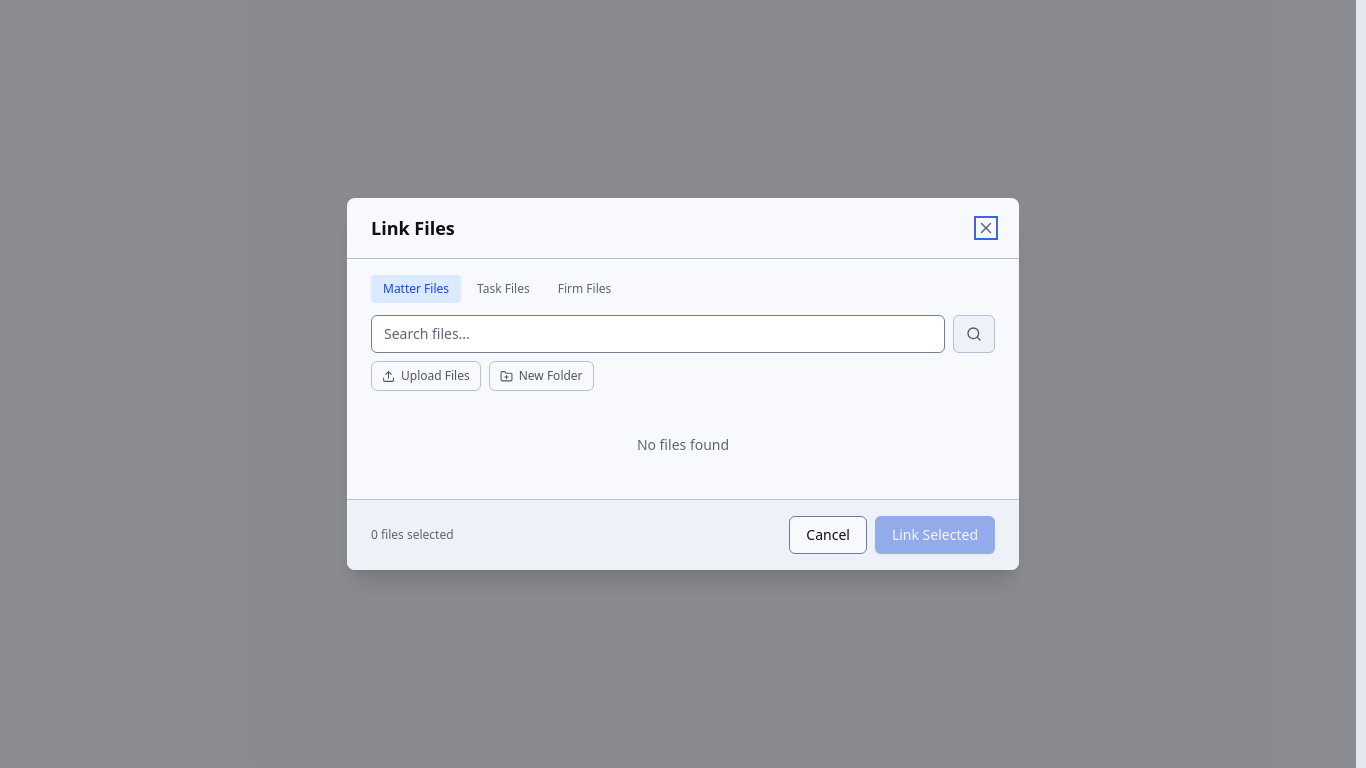
Test: FilePickerModal task list › filters the rendered task rows by title
This screenshot has width=1366, height=768.
Click the button "Task Files" at (503, 289), box [465,275,542,303]
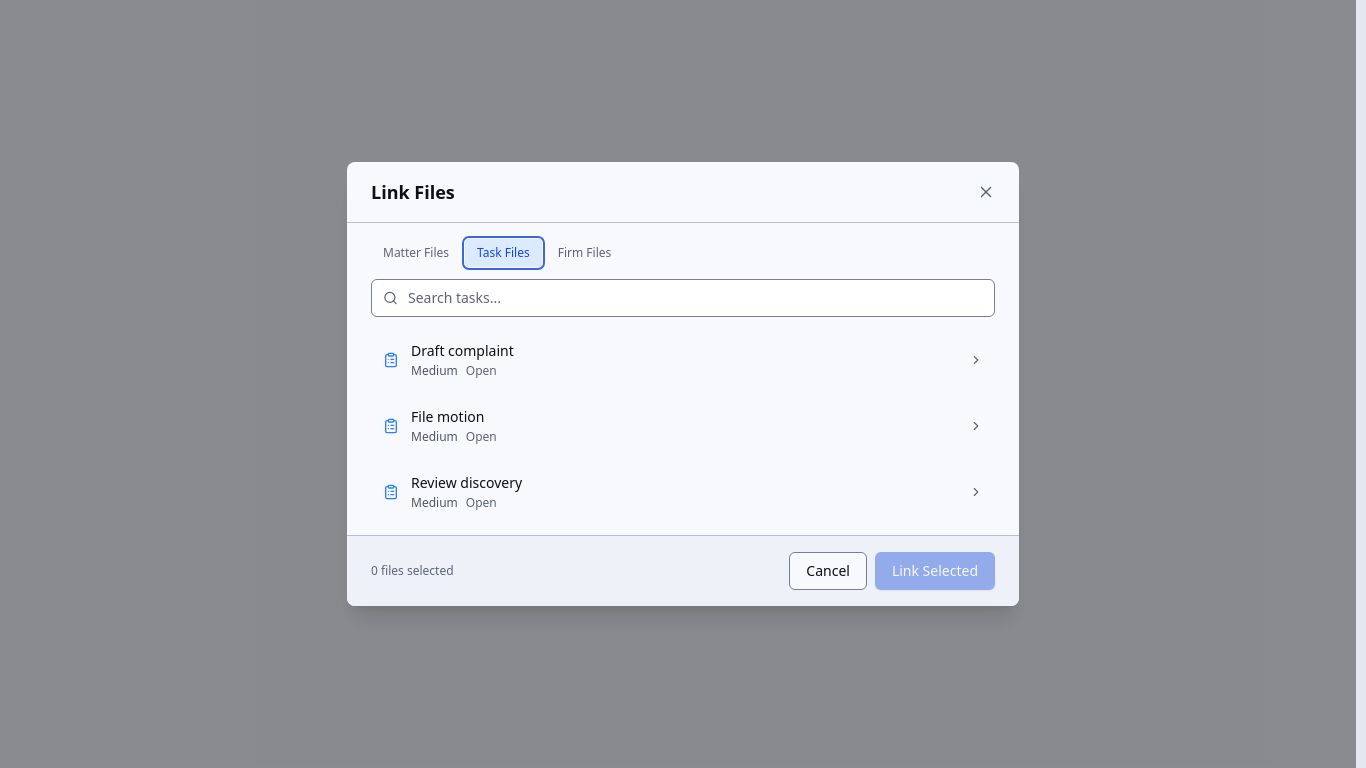
Now the text "Draft complaint" is shown, box [411,341,514,360]
Type "MOTION" into the field with placeholder "Search tasks..." at (683, 298), box [371,279,995,317]
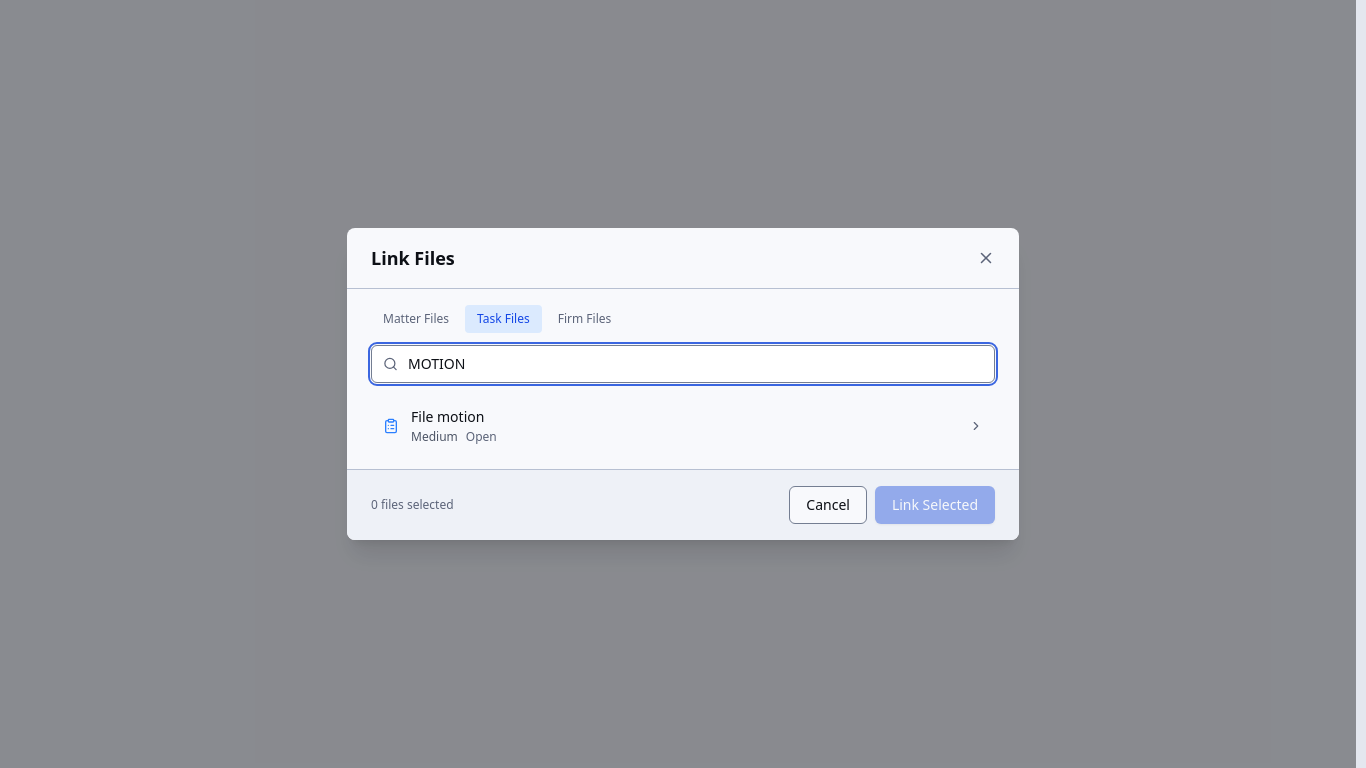
Now the text "File motion" is shown, box [411,407,484,426]
Now the button "Draft complaint" is gone
Now the button "Review discovery" is gone
